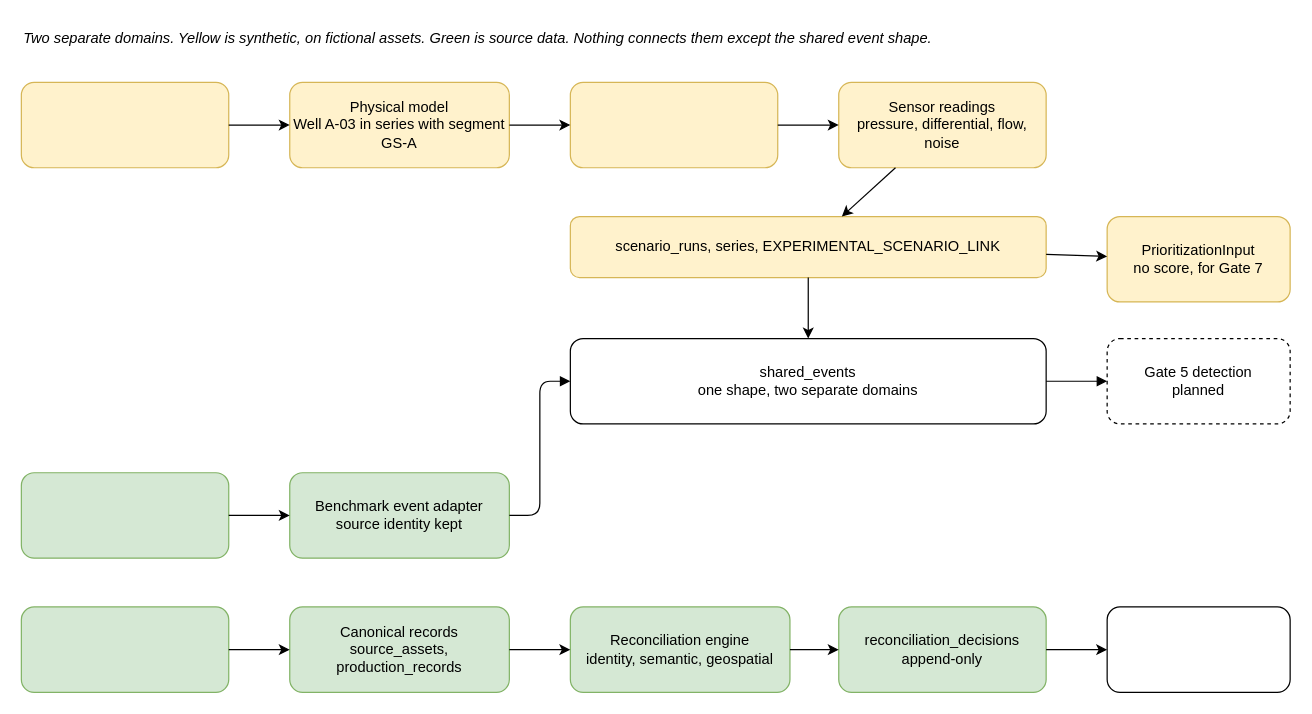
This 1312x714 diagram has some shape labels left out. Here are the shapes that lost their labels. From the top down, the centre of each, then its label:
pixel 124 124: Scenario configuration parameters, schedule, seed
pixel 673 124: 12 physical invariants a failure refuses the run
pixel 124 515: Petrobras 3W offshore instances
pixel 124 649: NM OCD wells, production
pixel 1198 649: Human review nothing verified automatically
